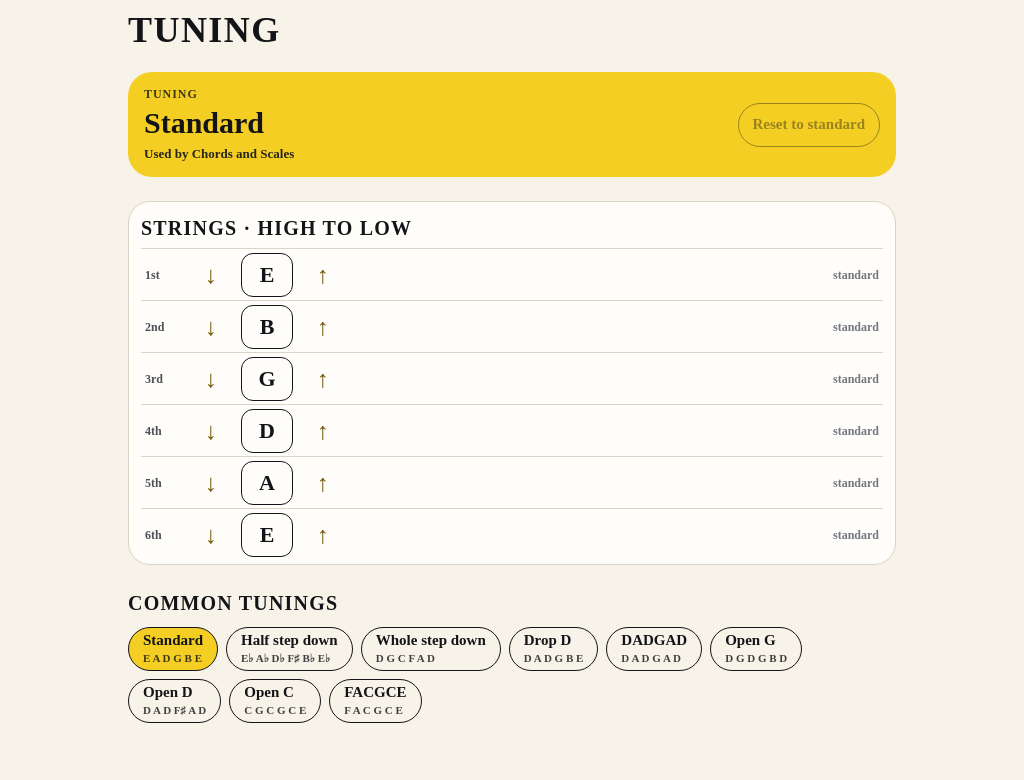
TuningPage › picks a preset and resets to standard
Click the button "DADGAD D A D G A D" at [654, 649], box [606, 627, 702, 671]
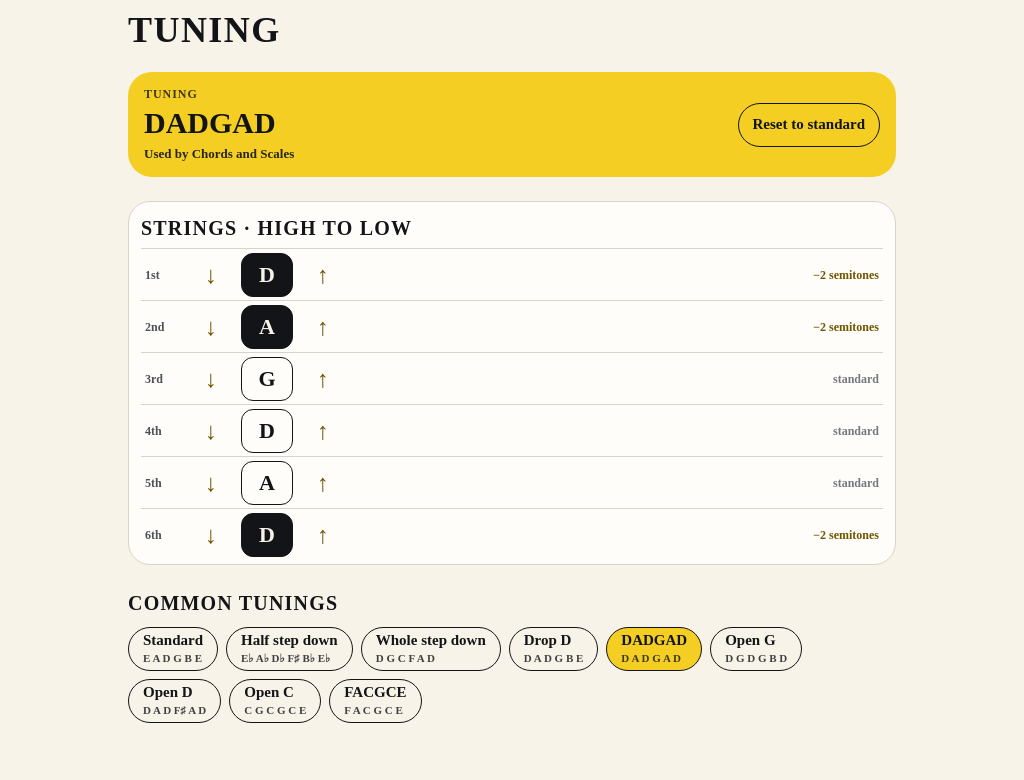
Check: the button "DADGAD D A D G A D" is pressed, box [606, 627, 702, 671]
Click the button "Reset to standard" at [809, 124], box [738, 102, 880, 146]
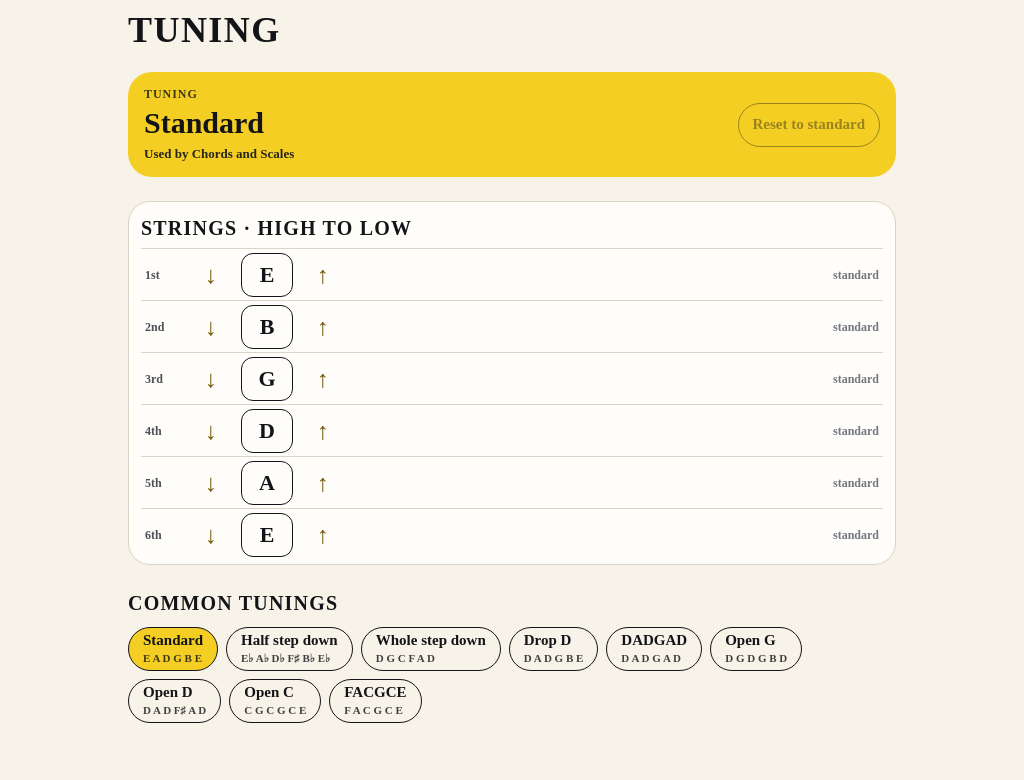
Check: the heading "Standard" is shown, box [144, 106, 264, 139]
Check: the button "Reset to standard" is disabled, box [738, 102, 880, 146]
